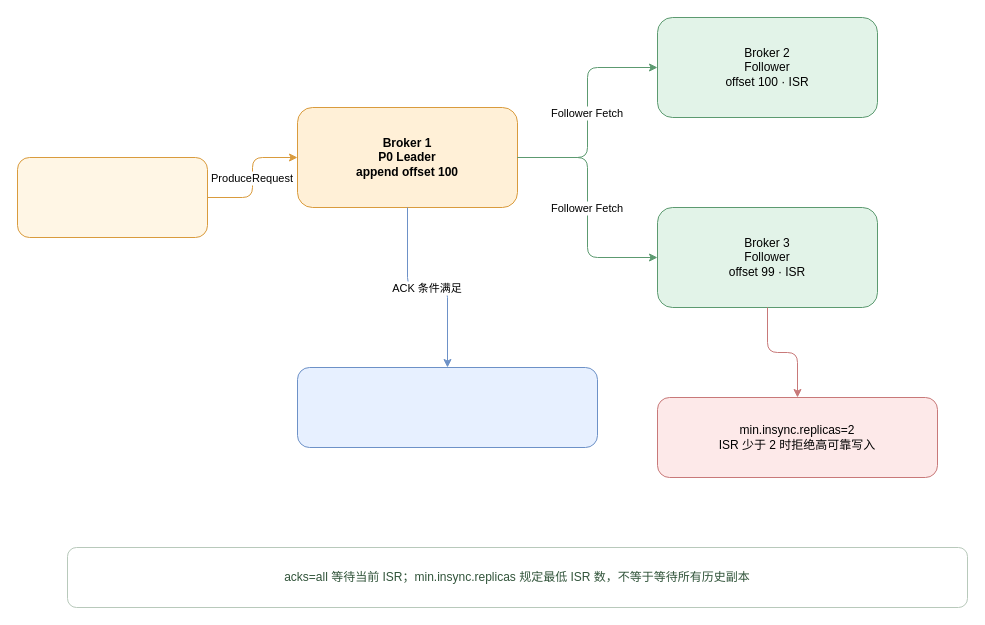
Image size: 985x625. Some labels were removed from this diagram. The centre of each missing label's shape, as x and y in pixels:
Producer acks=all: pixel 112 197
ProduceResponse 满足 ISR 确认后成功: pixel 447 407
